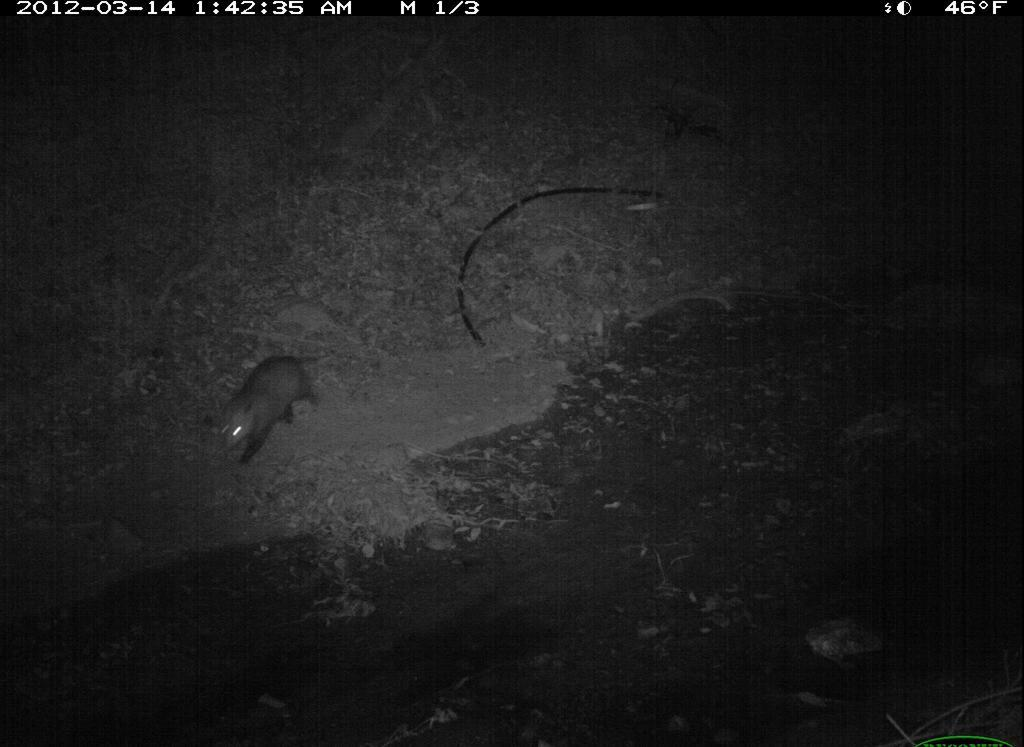opossum: (208, 347, 328, 473)
